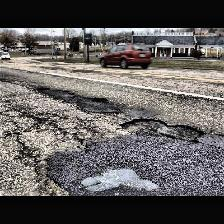pothole: (119, 119, 205, 144), (92, 97, 108, 103), (36, 86, 50, 90)
